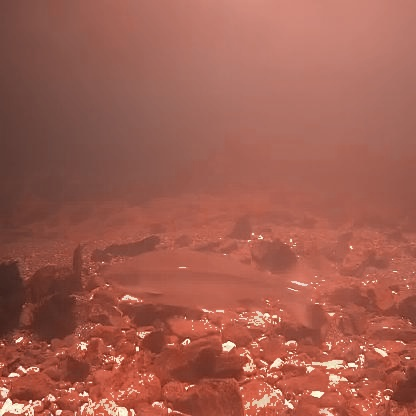salmon: (99, 237, 317, 334)
